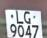0: (17, 24, 26, 38)
4: (25, 24, 33, 38)
7: (32, 24, 40, 38)
9: (10, 23, 18, 38)
G: (24, 11, 32, 26)
L: (15, 11, 24, 25)
